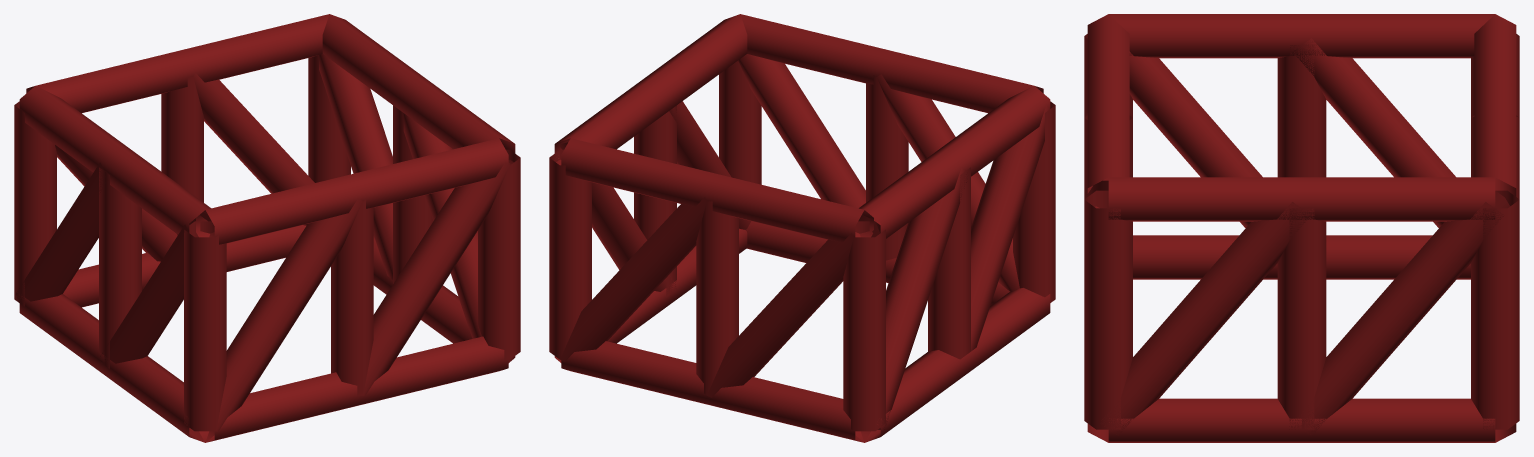
Rendered from andamio1.DAE.
3 views of the same model, side by side, from view 1: azimuth 30°, elevation 25°; view 2: azimuth 150°, elevation 25°; view 3: azimuth 270°, elevation 25° (orthographic). The views are drawn at different scales.
Parts seen in each view (by area): view 1: andamio4_75; view 2: andamio4_75; view 3: andamio4_75.
Part boxes in pixels (x1,y1,x2,y2): andamio4_75: (14, 14, 520, 442); andamio4_75: (549, 14, 1055, 442); andamio4_75: (1084, 14, 1519, 442).
Bounding box in the file's own units: 5.27 × 5.35 × 3.6.
